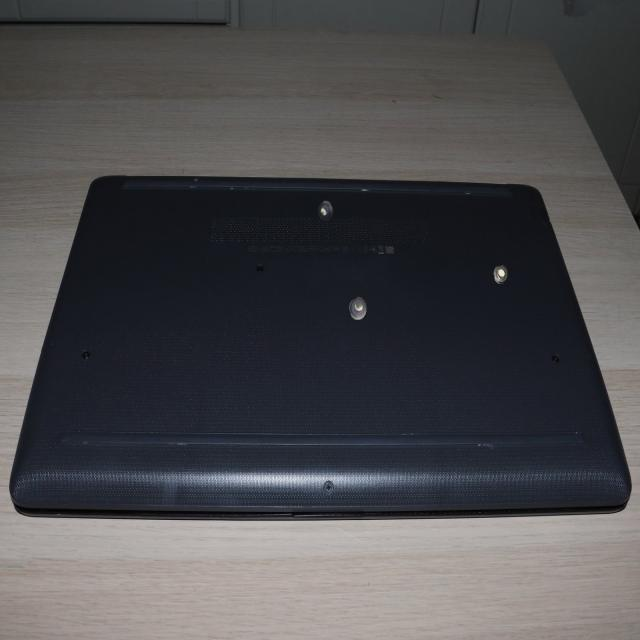missing_screw: (349, 297, 366, 320), (318, 200, 333, 220), (493, 265, 508, 284)
